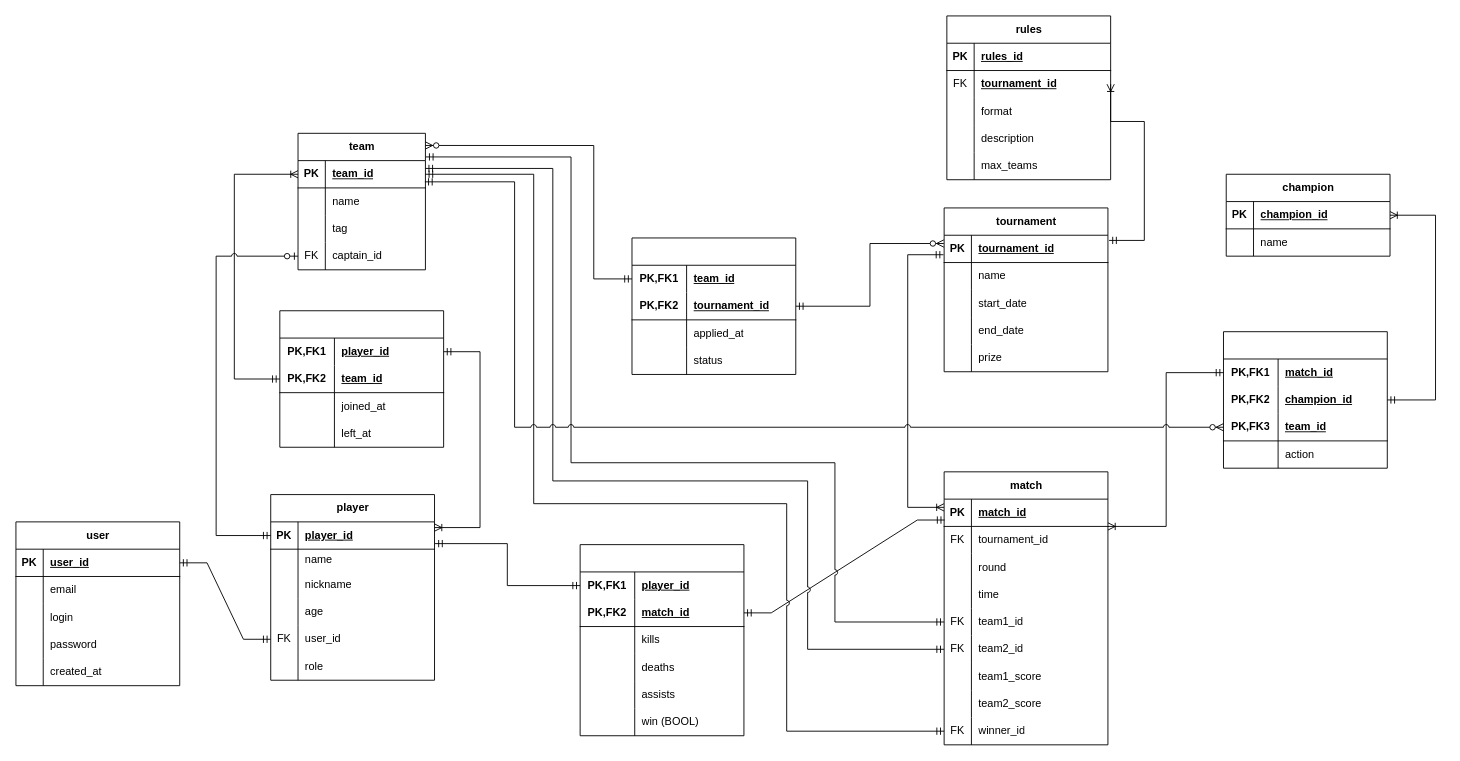
The diagram is 1460 pixels wide and 761 high, and some of its shapes have lost their labels. Here are the shapes that lost their labels. From the top down, the box of each, then its label:
(631, 237, 796, 374): tournament_registration
(279, 310, 444, 447): team_member
(1223, 331, 1387, 468): draft
(579, 544, 744, 736): player_statistics
